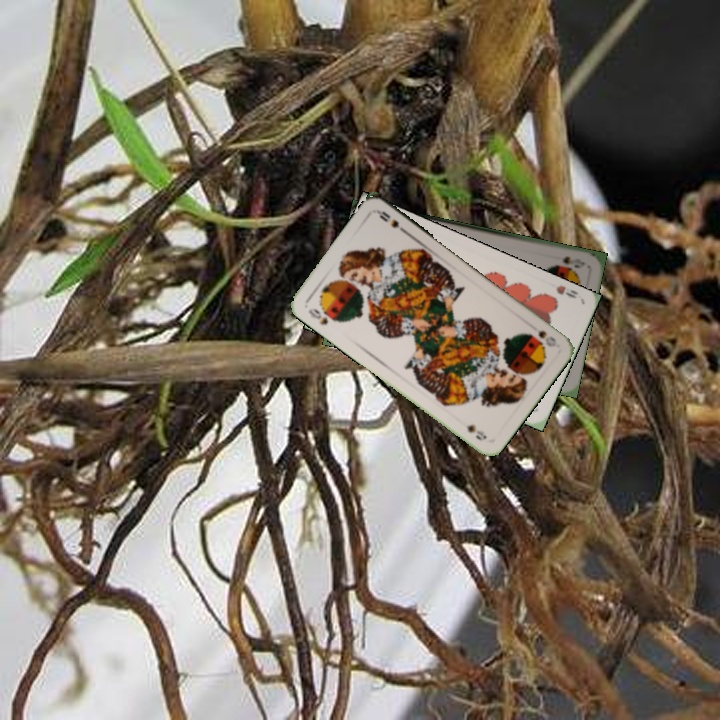H9: (552, 281, 581, 301)
SO: (304, 304, 338, 328), (534, 326, 559, 350), (559, 252, 587, 271)
